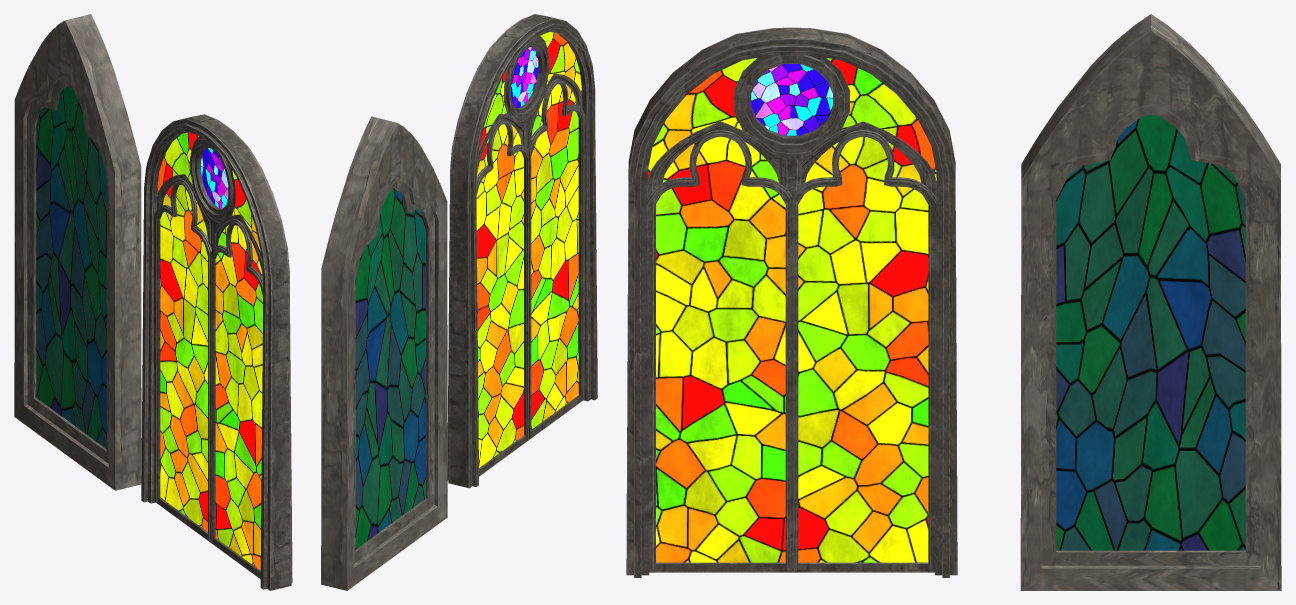
File: StainedGlassWindows.fbx
3 views of the same model, side by side, from view 1: azimuth 30°, elevation 25°; view 2: azimuth 150°, elevation 25°; view 3: azimuth 270°, elevation 25° (orthographic). The views are drawn at different scales.
Visible parts, largest first — view 1: Glass2, Frame1, Frame2, Glass1; view 2: Glass2, Frame1, Frame2, Glass1; view 3: Glass2, Glass1, Frame1, Frame2.
Part boxes in pixels (bbox=[...]): Glass2: bbox=[157, 132, 262, 570]; Frame1: bbox=[14, 14, 141, 490]; Frame2: bbox=[141, 114, 292, 590]; Glass1: bbox=[36, 86, 106, 448]; Glass2: bbox=[476, 32, 581, 467]; Frame1: bbox=[321, 116, 447, 590]; Frame2: bbox=[447, 14, 597, 488]; Glass1: bbox=[355, 188, 425, 549]; Glass2: bbox=[647, 58, 936, 562]; Glass1: bbox=[1056, 114, 1245, 550]; Frame1: bbox=[1020, 14, 1281, 590]; Frame2: bbox=[626, 27, 957, 577].
Size of the model in its own units: 12.81 by 183 by 193.
